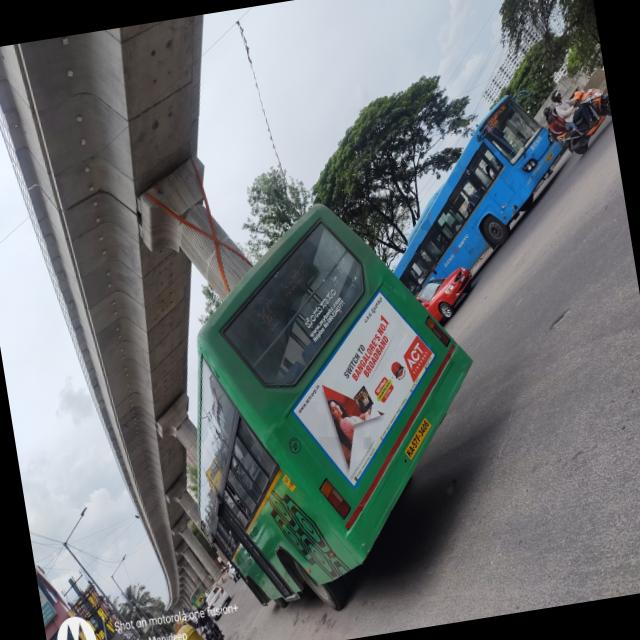bus: (115, 183, 501, 640), (338, 79, 584, 318)
display: (473, 103, 514, 134)
dnumber: (482, 120, 494, 134)
